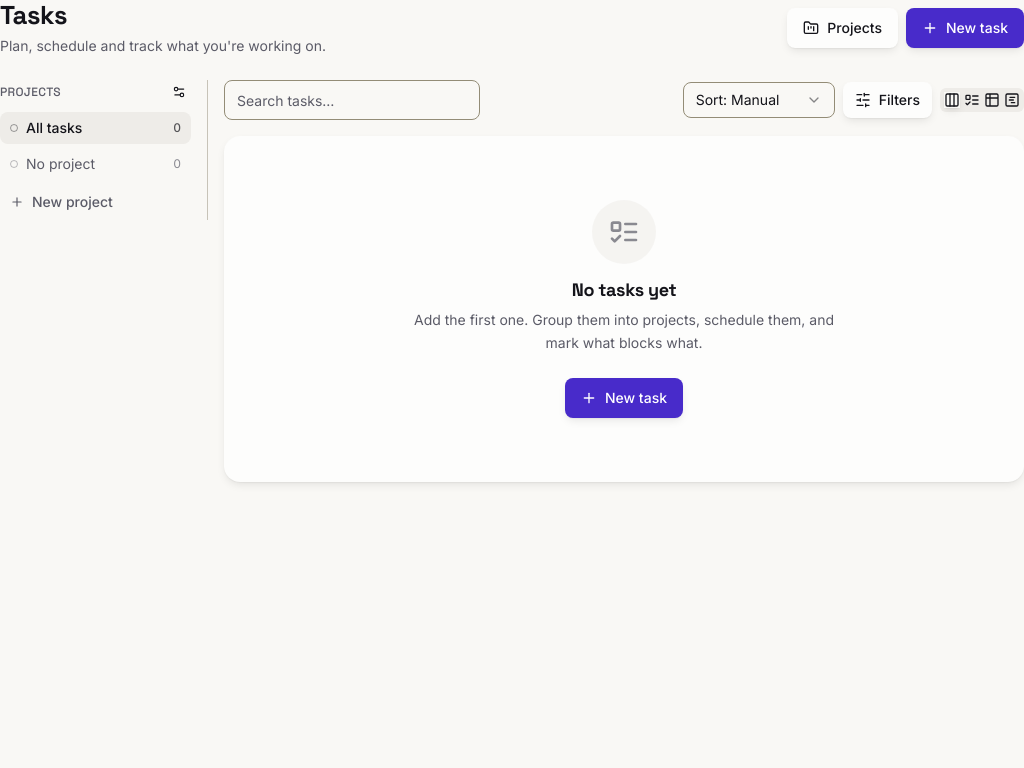
Scenario: view before edit › opens a new task straight into the form
Click the 1st button "New task" at [965, 28], box [906,8,1023,48]
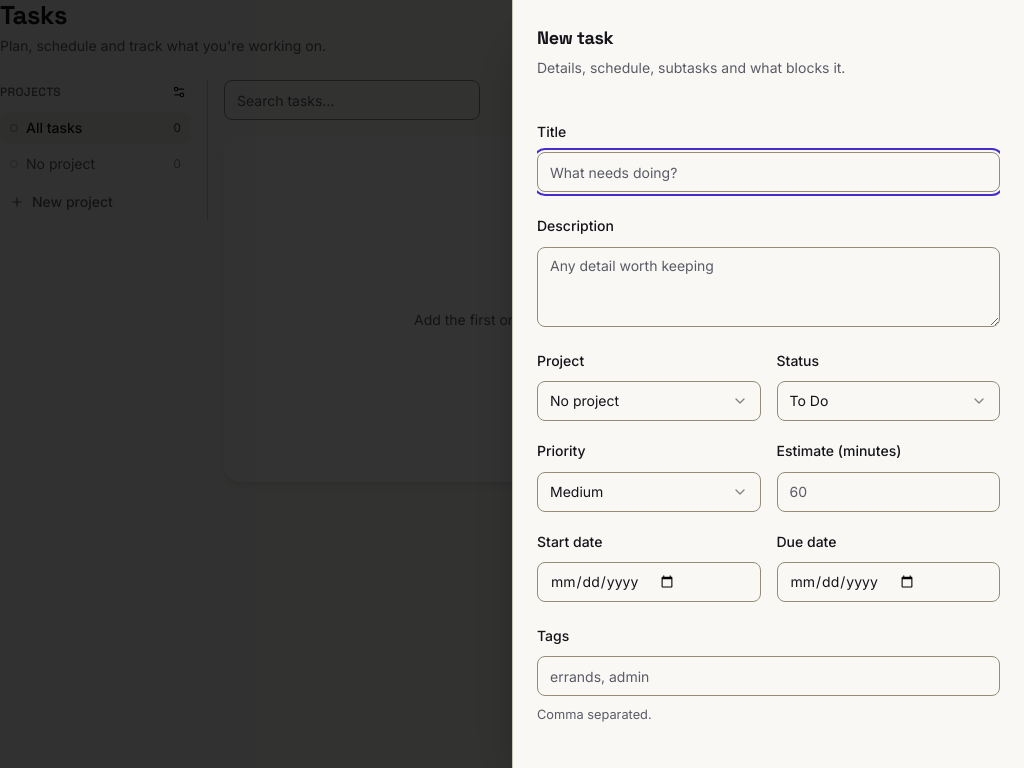
Expected: the field labelled "Title" is shown, [537,152,1000,192]
